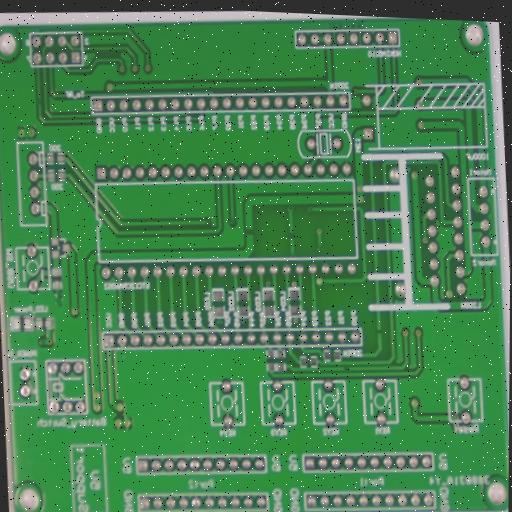open_circuit: (244, 223, 256, 239), (286, 229, 297, 242), (375, 327, 384, 337), (37, 95, 42, 107), (342, 366, 350, 373)
